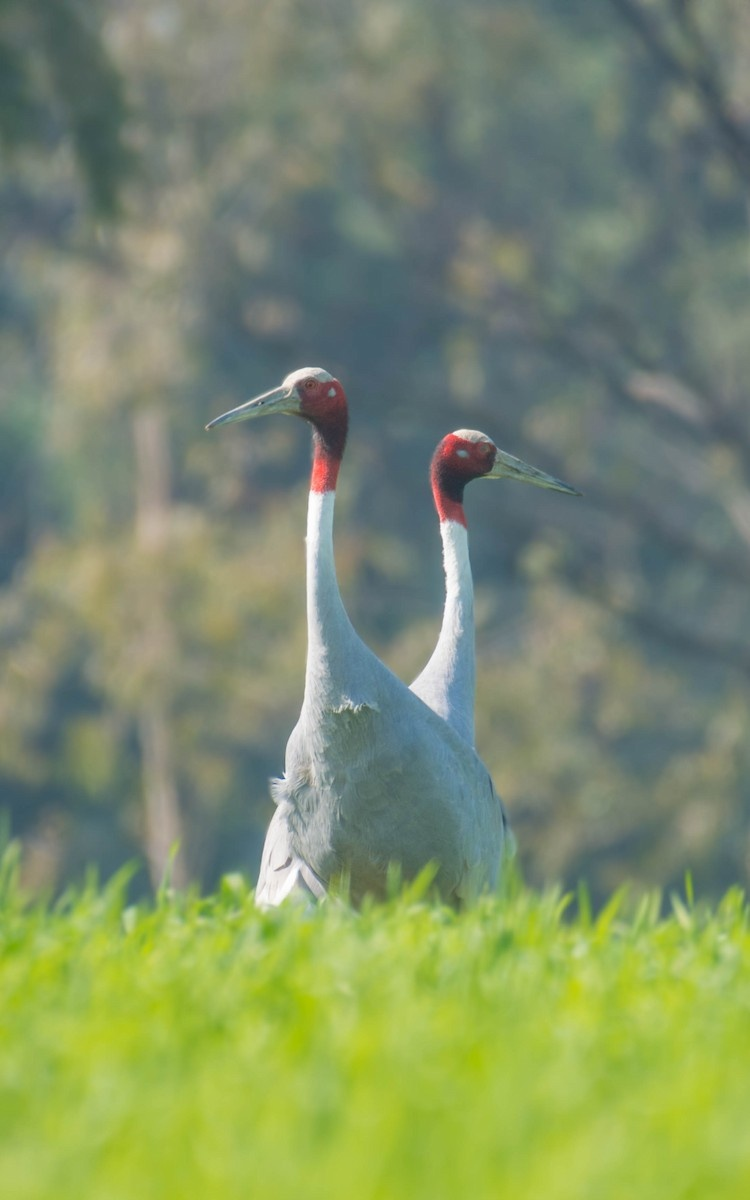crane: (202, 357, 425, 899), (392, 401, 589, 703)
